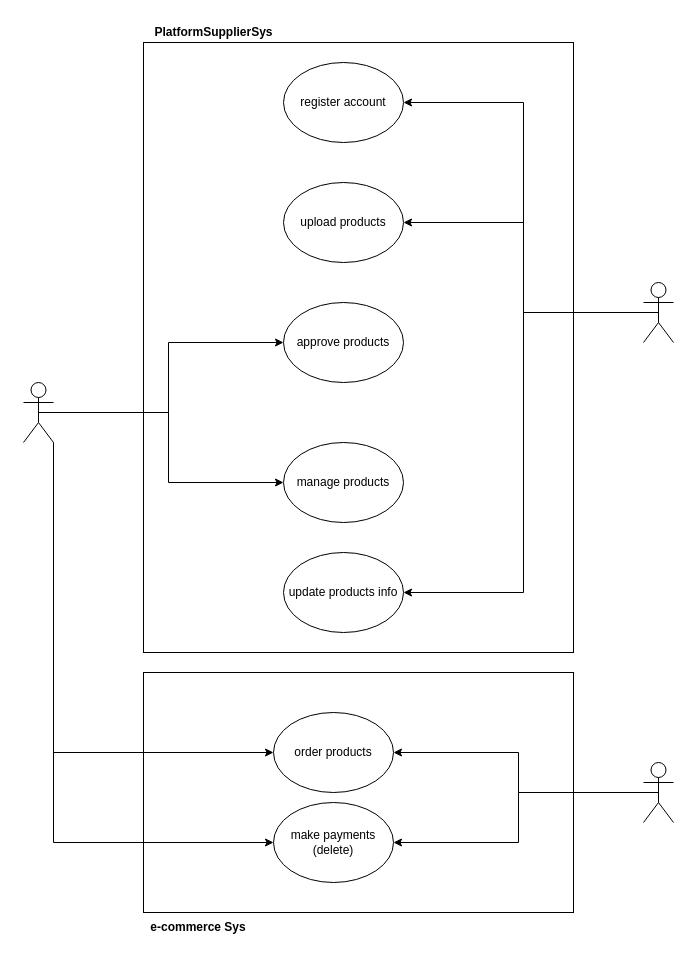
The diagram is 700 pixels wide and 959 high, and some of its shapes have lost their labels. Each missing label, with the centre of its shape:
"platform" goes at (38,412).
"suppliers" goes at (658,312).
"users" goes at (658,792).
